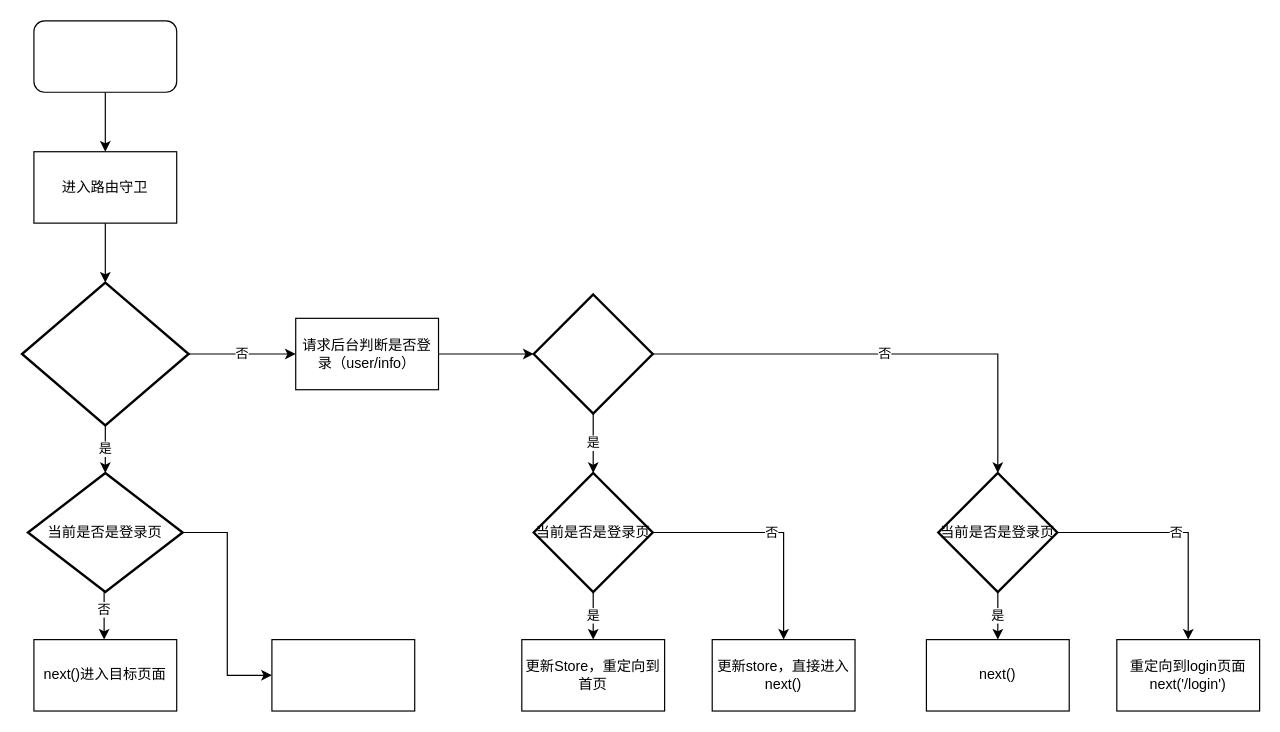
Image size: 1280x732. Some labels were removed from this diagram. Here are the shapes that lost their labels. From the top down, the centre of each, then its label:
At (x=105, y=56): "页面加载".
At (x=104, y=353): "根据store判断是否登录".
At (x=592, y=353): "获取用户信息".
At (x=343, y=674): "next('/')跳转首页".
